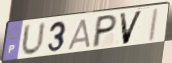3: (47, 20, 68, 55)
A: (66, 18, 92, 51)
I: (146, 6, 160, 44)
P: (90, 13, 119, 49)
U: (20, 21, 47, 58)
V: (118, 9, 145, 46)
